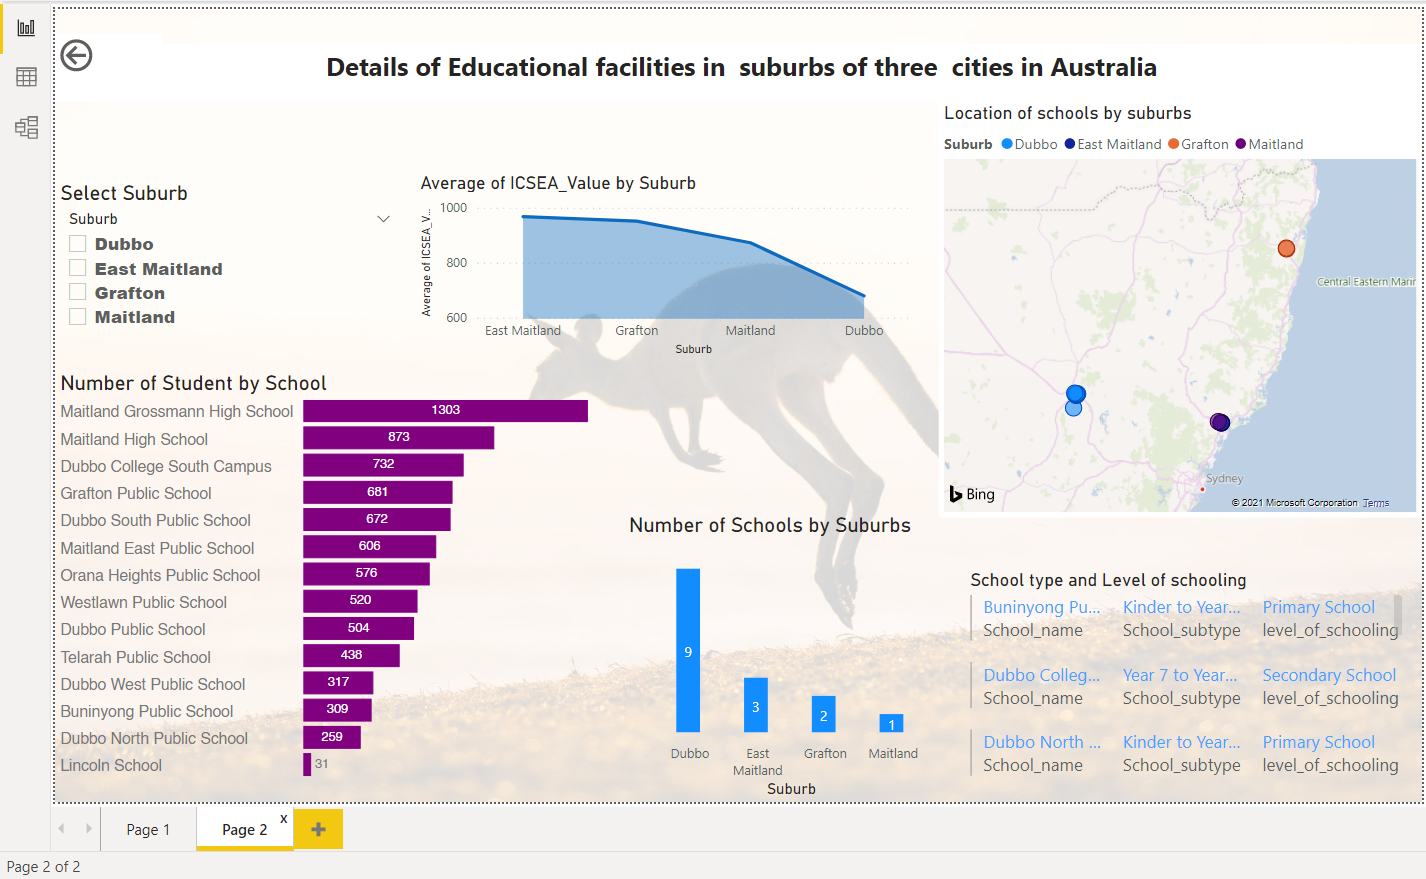

What the dashboard file says about the page in this screenshot:
{"tool":"powerbi","page":{"name":"Page 2","canvas":[1280,720],"ordinal":1},"visuals":[{"type":"lineClusteredColumnComboChart","title":"Number of Schools by Suburbs","fields":{"Category":["NSW_Public_Schools_Master_Dataset_07032017.Suburb"],"Y":["CountNonNull(Schools.School_name)"]},"box":[532.7,443.7,295,276.3],"z":0},{"type":"map","title":"Location of schools by suburbs","fields":{"Series":["NSW_Public_Schools_Master_Dataset_07032017.Suburb"],"Y":["NSW_Public_Schools_Master_Dataset_07032017.Latitude"],"X":["NSW_Public_Schools_Master_Dataset_07032017.Longitude"]},"box":[827.7,63.2,451.9,389.9],"z":1000},{"type":"multiRowCard","title":"School type and Level of schooling","fields":{"Values":["NSW_Public_Schools_Master_Dataset_07032017.School_name","Schools.School_subtype","Schools.level_of_schooling"]},"box":[852.3,501.1,414.4,218.9],"z":2000},{"type":"slicer","title":"Select Suburb","fields":{"Values":["NSW_Public_Schools_Master_Dataset_07032017.Suburb"]},"box":[0,138.1,326.6,178],"z":3000},{"type":"textbox","box":[0,9.4,1279.6,53.9],"z":4000},{"type":"TornadoChart1452517688218","title":"Number of Student by School","fields":{"Category":["NSW_Public_Schools_Master_Dataset_07032017.School_name"],"Values":["Max(NSW_Public_Schools_Master_Dataset_07032017.Student_number)"]},"box":[0,316.1,518.6,403.9],"z":5000},{"type":"stackedAreaChart","fields":{"Category":["NSW_Public_Schools_Master_Dataset_07032017.Suburb"],"Y":["Avg(NSW_Public_Schools_Master_Dataset_07032017.ICSEA_Value)"]},"box":[337.2,128.8,468.3,178],"z":6000},{"type":"actionButton","box":[0,0,100,40],"z":7000},{"type":"actionButton","title":"Next page","box":[1180.1,0,99.5,63.2],"z":7001}]}

Visuals, with their boxes on the page's 1280x720 design canvas (x1, y1, x2, y2). These are canvas units, not pixel positions in the 1426x879 screenshot, which may show the page scaled, cropped or inside an application window:
"Number of Schools by Suburbs" lineClusteredColumnComboChart: [left=533, top=444, right=828, bottom=720]
"Location of schools by suburbs" map: [left=828, top=63, right=1280, bottom=453]
"School type and Level of schooling" multiRowCard: [left=852, top=501, right=1267, bottom=720]
"Select Suburb" slicer: [left=0, top=138, right=327, bottom=316]
textbox: [left=0, top=9, right=1280, bottom=63]
"Number of Student by School" TornadoChart1452517688218: [left=0, top=316, right=519, bottom=720]
stackedAreaChart - NSW_Public_Schools_Master_Dataset_07032017.Suburb x Avg(NSW_Public_Schools_Master_Dataset_07032017.ICSEA_Value): [left=337, top=129, right=806, bottom=307]
actionButton: [left=0, top=0, right=100, bottom=40]
"Next page" actionButton: [left=1180, top=0, right=1280, bottom=63]
